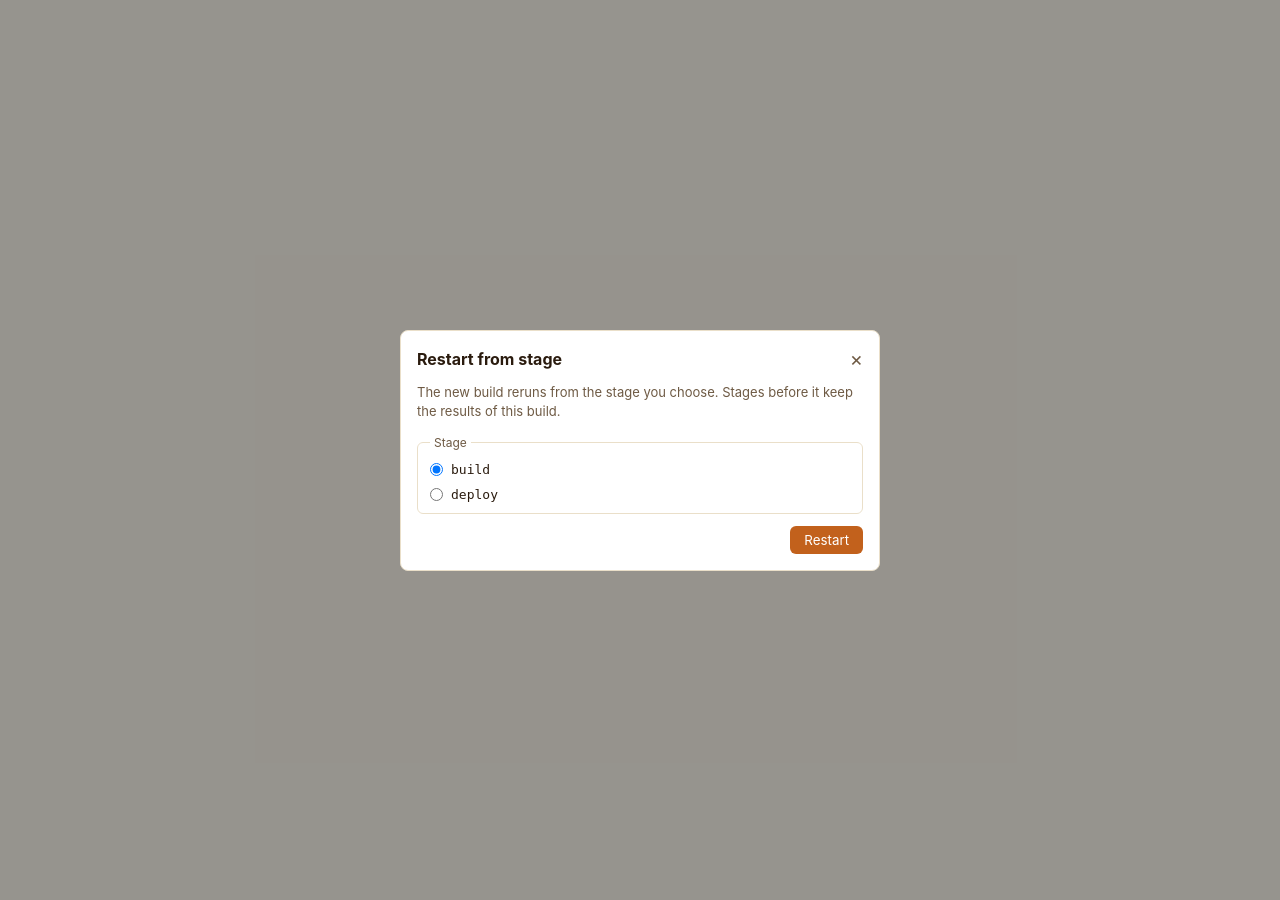
Test: RestartDrawer › shows the server's refusal message
Click the button "Restart" at {"x": 827, "y": 540}, box [790,526,863,554]
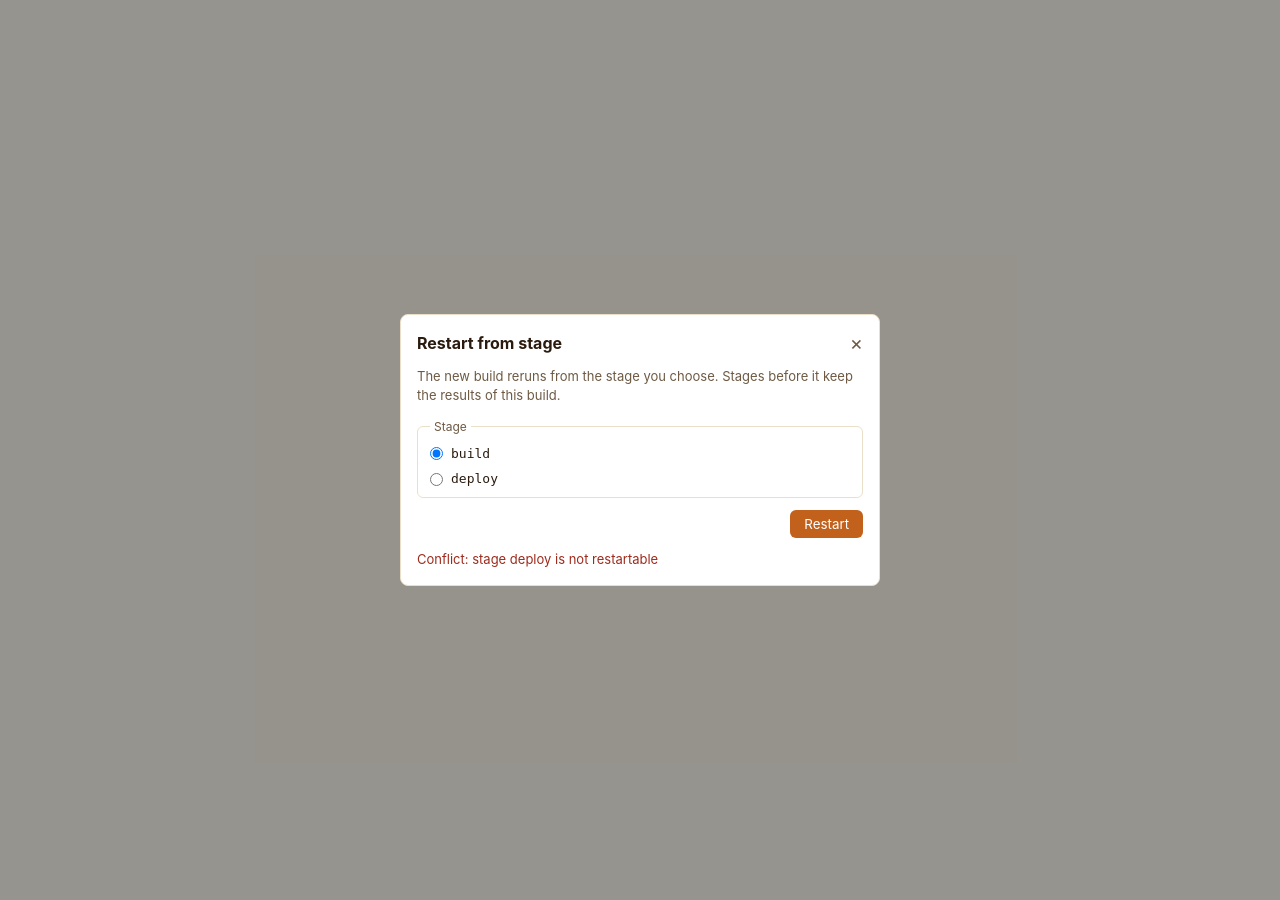
Expected: the text "Conflict: stage deploy is not restartable" is shown, [417,551,658,567]
